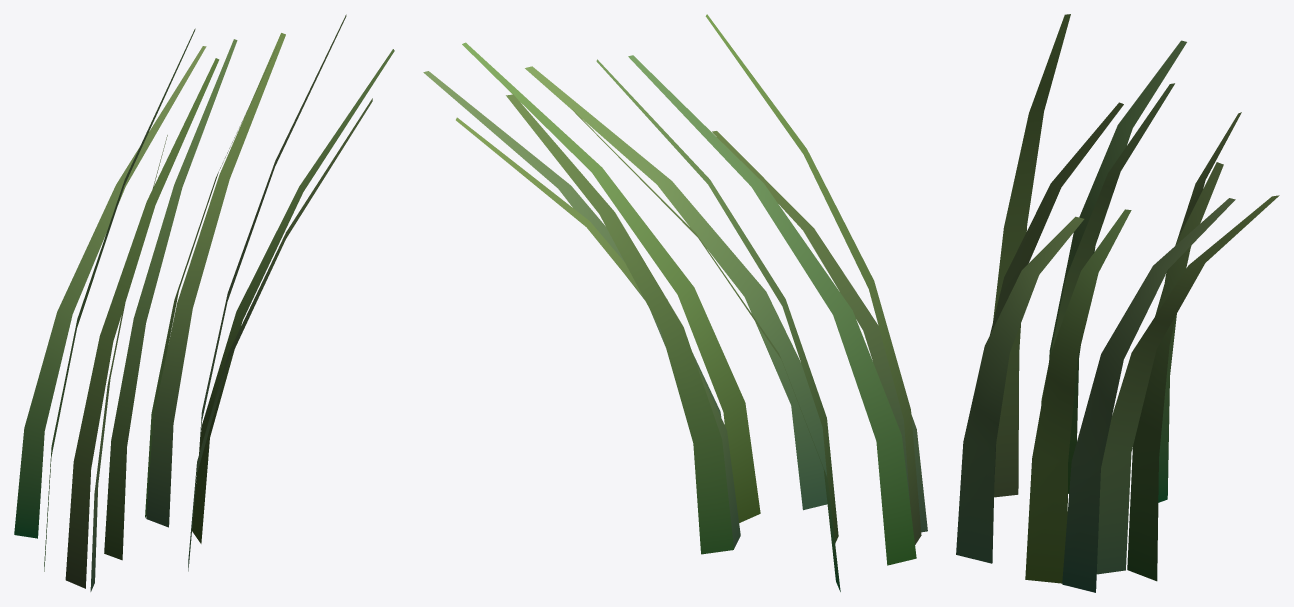
The model's file is env_grass_windswept_01.glb.
The picture shows the model from 3 angles, left to right: view 1: azimuth 30°, elevation 25°; view 2: azimuth 150°, elevation 25°; view 3: azimuth 270°, elevation 25°; orthographic projection. The views are drawn at different scales.
Visible parts, largest first — view 1: grass_windswept; view 2: grass_windswept; view 3: grass_windswept.
Boxes of the visible parts, x1=… form: grass_windswept: x1=14, y1=14, x2=394, y2=591; grass_windswept: x1=423, y1=14, x2=927, y2=591; grass_windswept: x1=956, y1=14, x2=1279, y2=592.
Bounding box in the file's own units: 0.2185 × 0.2524 × 0.1265.
